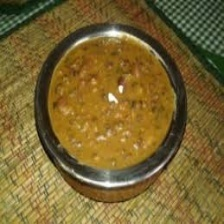dal: (45, 30, 179, 176)
